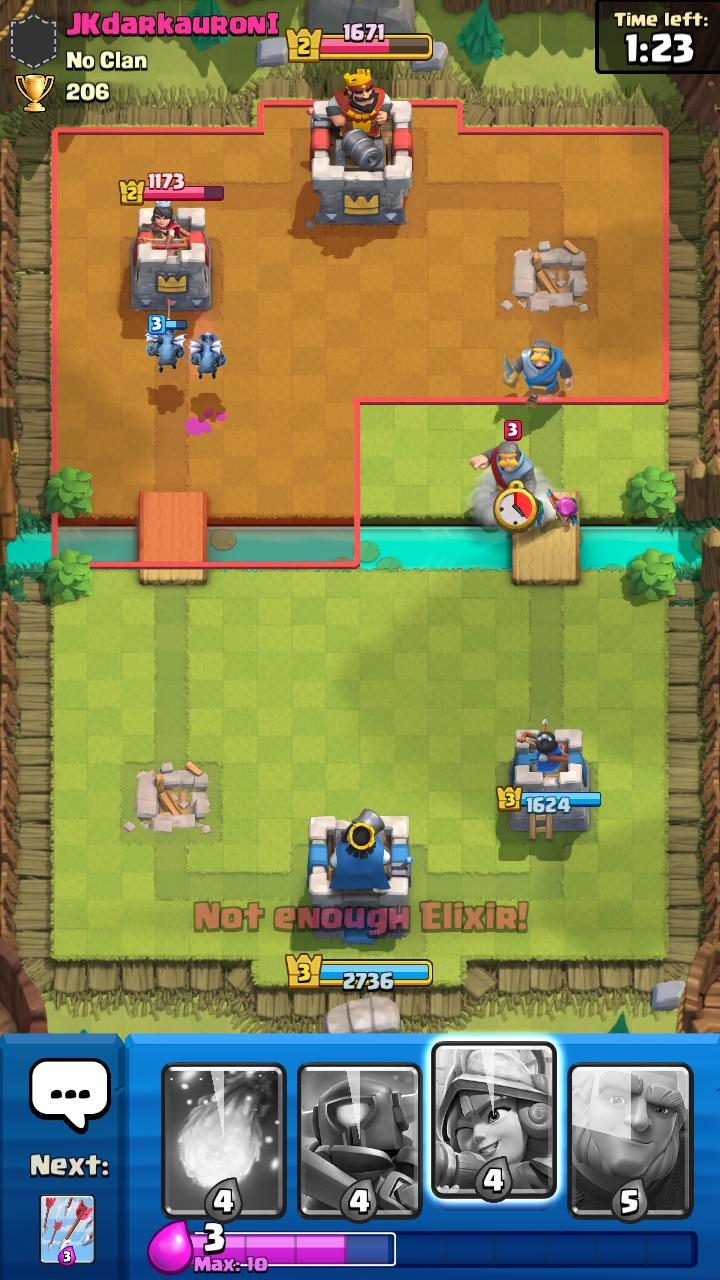ally: (502, 339, 574, 407), (188, 334, 226, 379), (547, 485, 579, 532), (527, 490, 544, 531)
enemy: (469, 420, 537, 504)
